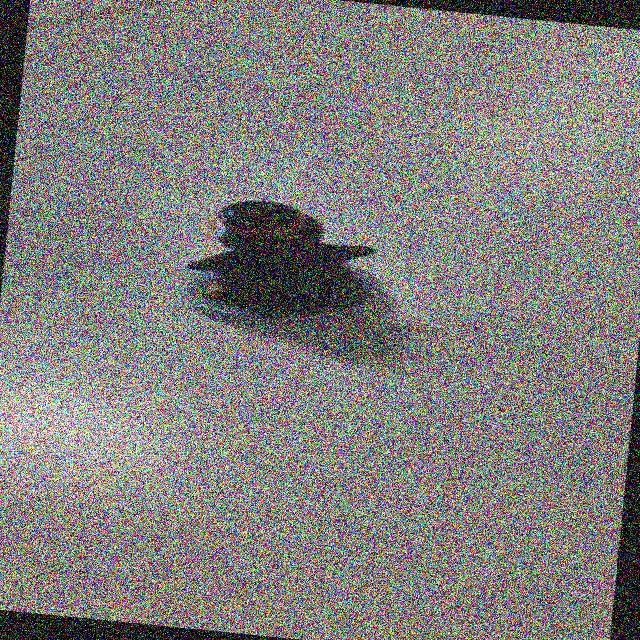Penguin: (182, 189, 388, 343)
